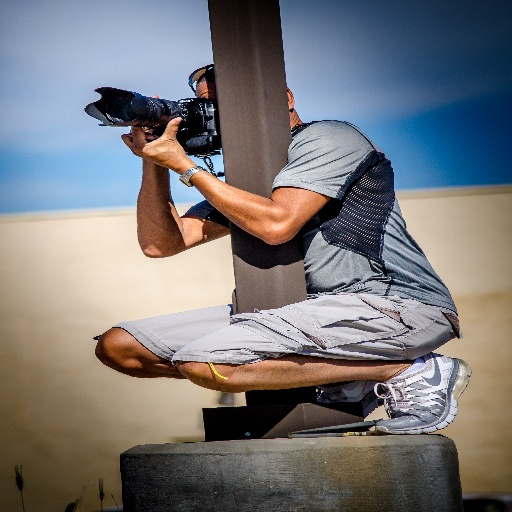hand: (126, 115, 193, 164), (142, 94, 160, 134)
